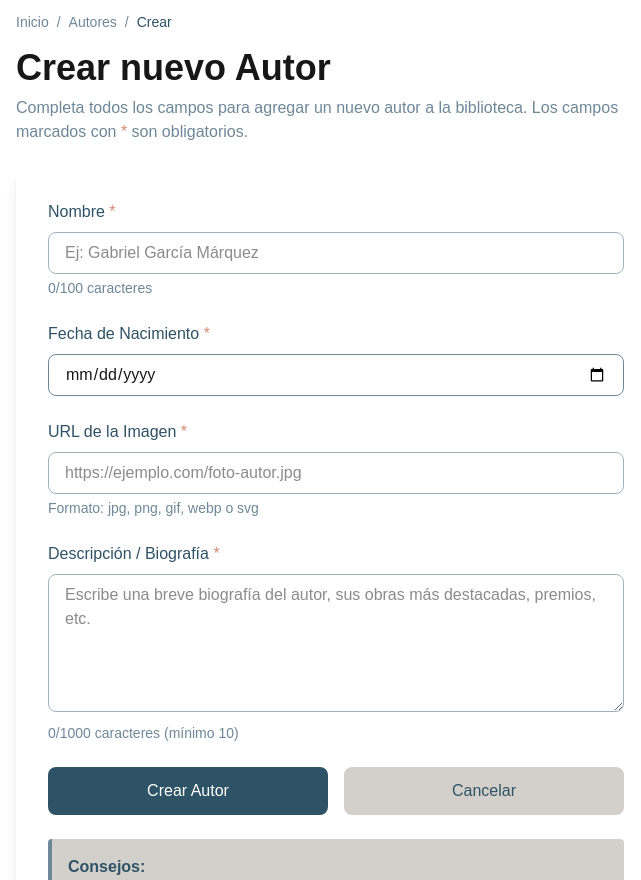
Test: Crear › Renderizado inicial › campos requeridos muestran error al enviar vacíos
Click the button "Crear Autor" at [188, 791], box [48, 767, 328, 815]
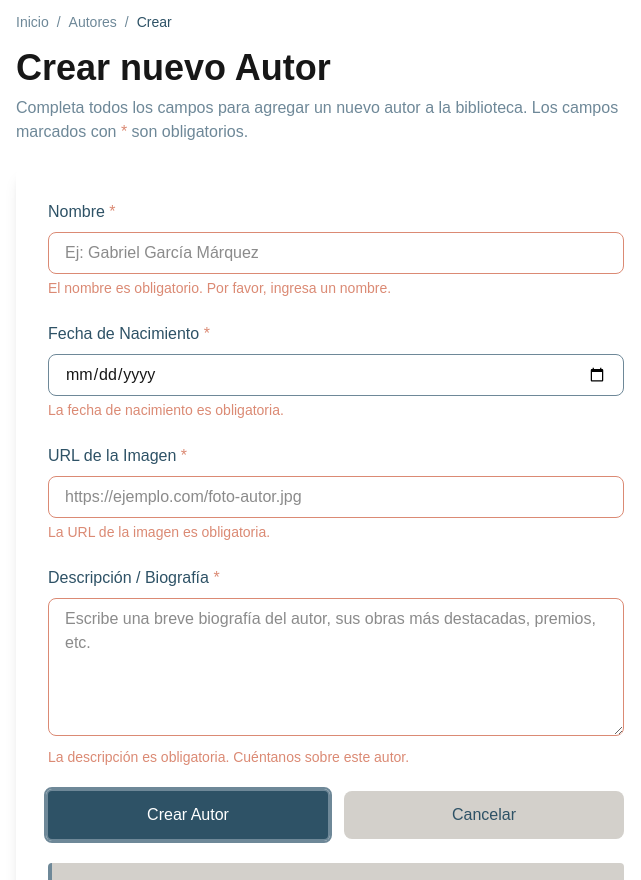
Expected: the text "El nombre es obligatorio. Por favor, ingresa un nombre." is shown, [48, 278, 391, 298]
Expected: the text "La fecha de nacimiento es obligatoria." is shown, [48, 402, 284, 418]
Expected: the text "La descripción es obligatoria. Cuéntanos sobre este autor." is shown, [48, 747, 409, 767]
